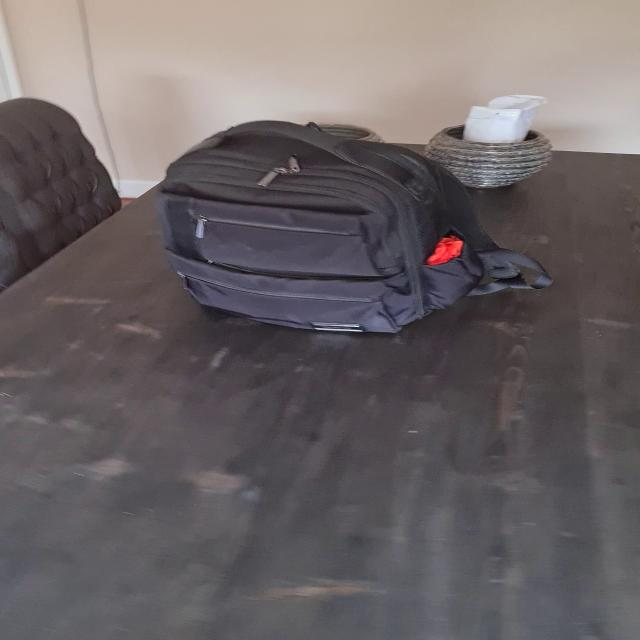backpack: (130, 110, 528, 338)
